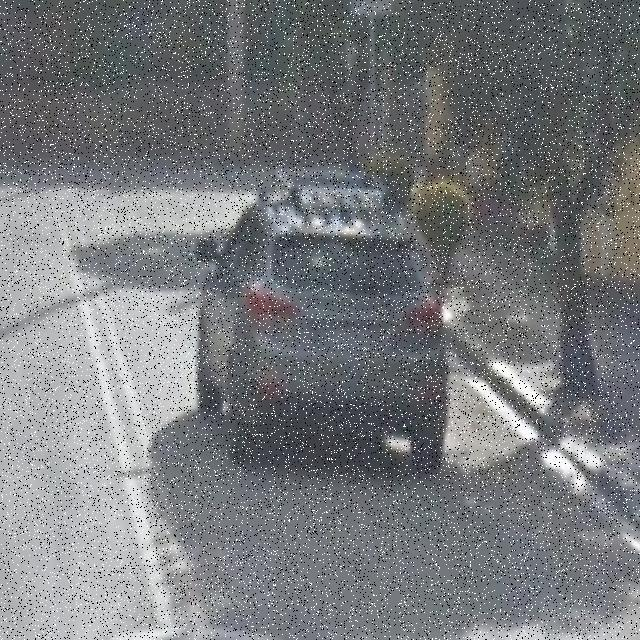cars: (205, 184, 452, 466)
